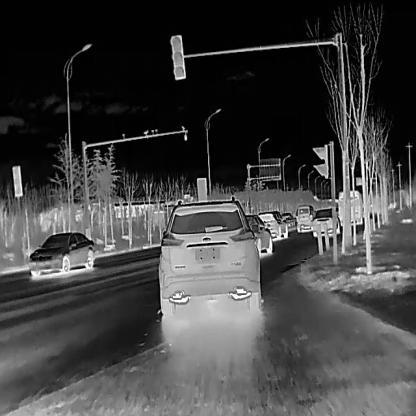car: (158, 195, 260, 315), (27, 231, 94, 275), (243, 213, 272, 253), (337, 189, 363, 225), (256, 210, 287, 240), (311, 206, 339, 237), (296, 216, 314, 232), (281, 212, 297, 226), (295, 204, 315, 215)
